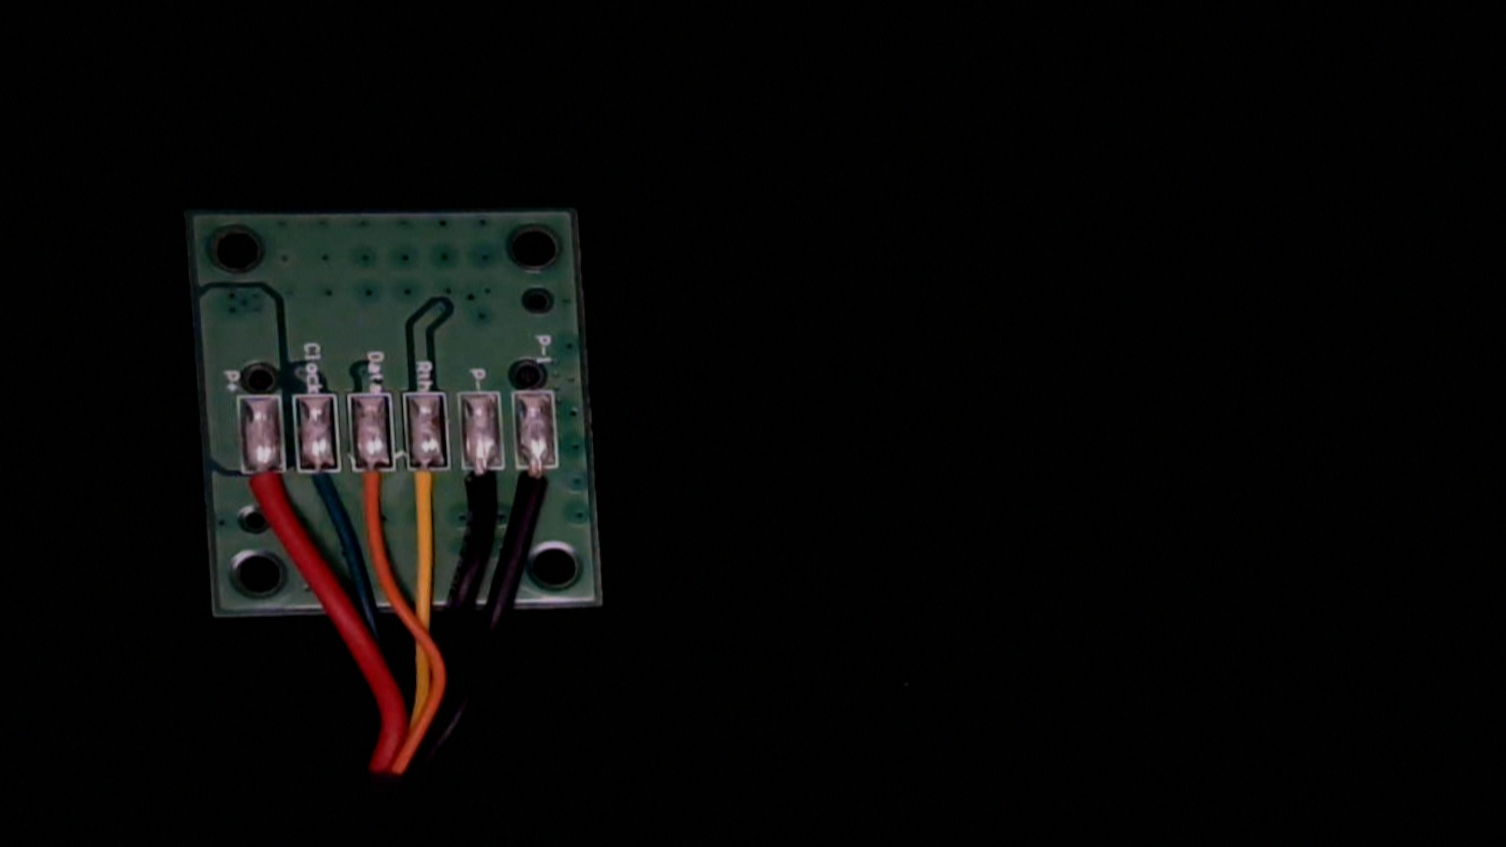Black: (460, 452, 505, 531)
Black1: (516, 451, 561, 523)
Green: (296, 453, 343, 527)
Orange: (350, 455, 396, 533)
Red: (240, 457, 293, 526)
Yellow: (402, 453, 452, 526)
